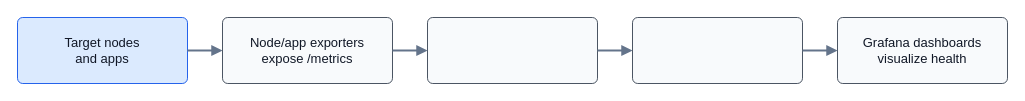
This 1025x101 diagram has some shape labels left out. The shapes that lost their labels are listed below. From the top down, each one's box as (x1, y1, x2, y2) in pixels, then its label:
(426, 16, 598, 84): Prometheus scrapes targets
(632, 16, 802, 84): PromQL + rules query and alert
